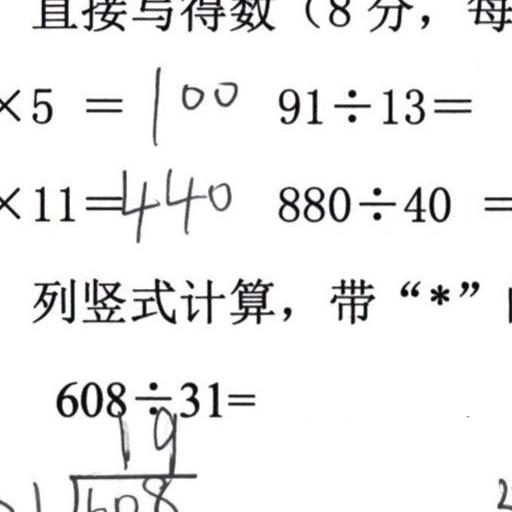ans: (114, 161, 232, 241), (141, 60, 239, 144)
